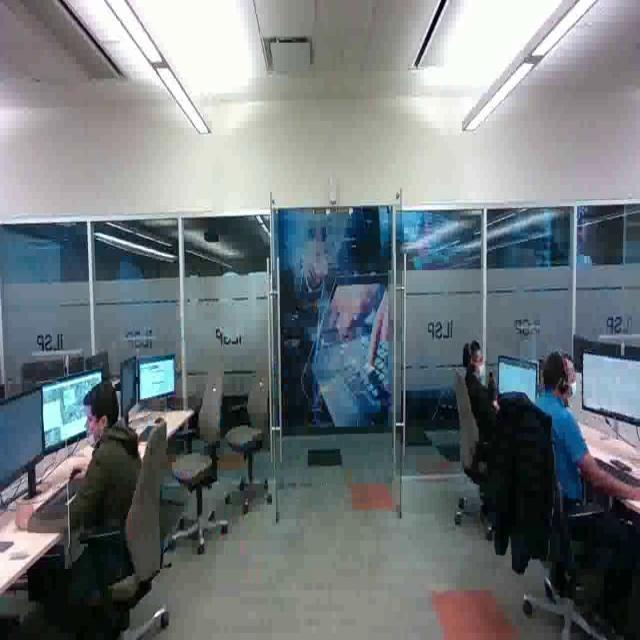hairnet: (82, 400, 104, 450)
